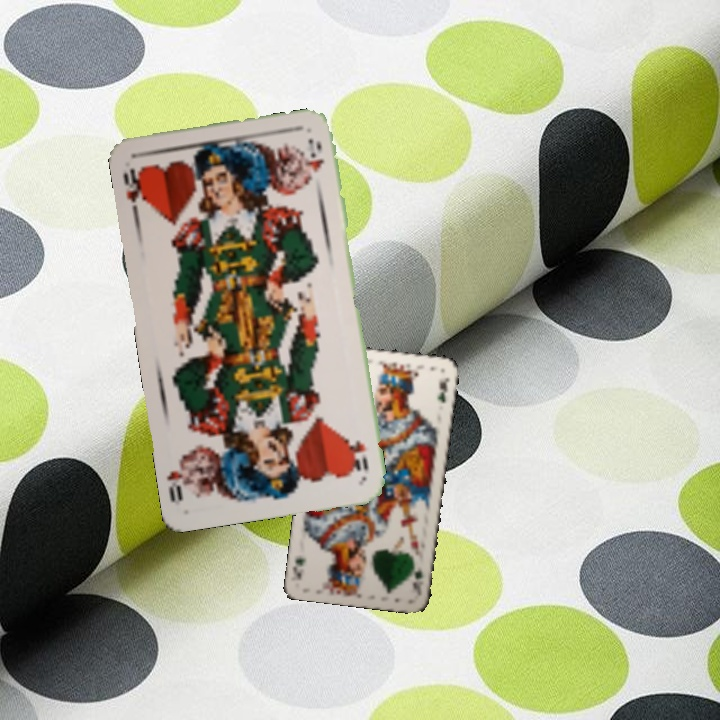GK: (409, 564, 425, 598)
HO: (119, 163, 149, 206), (345, 433, 371, 474)
